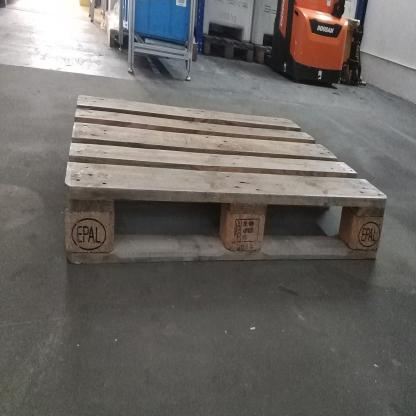BoxFace: (58, 89, 394, 269)
